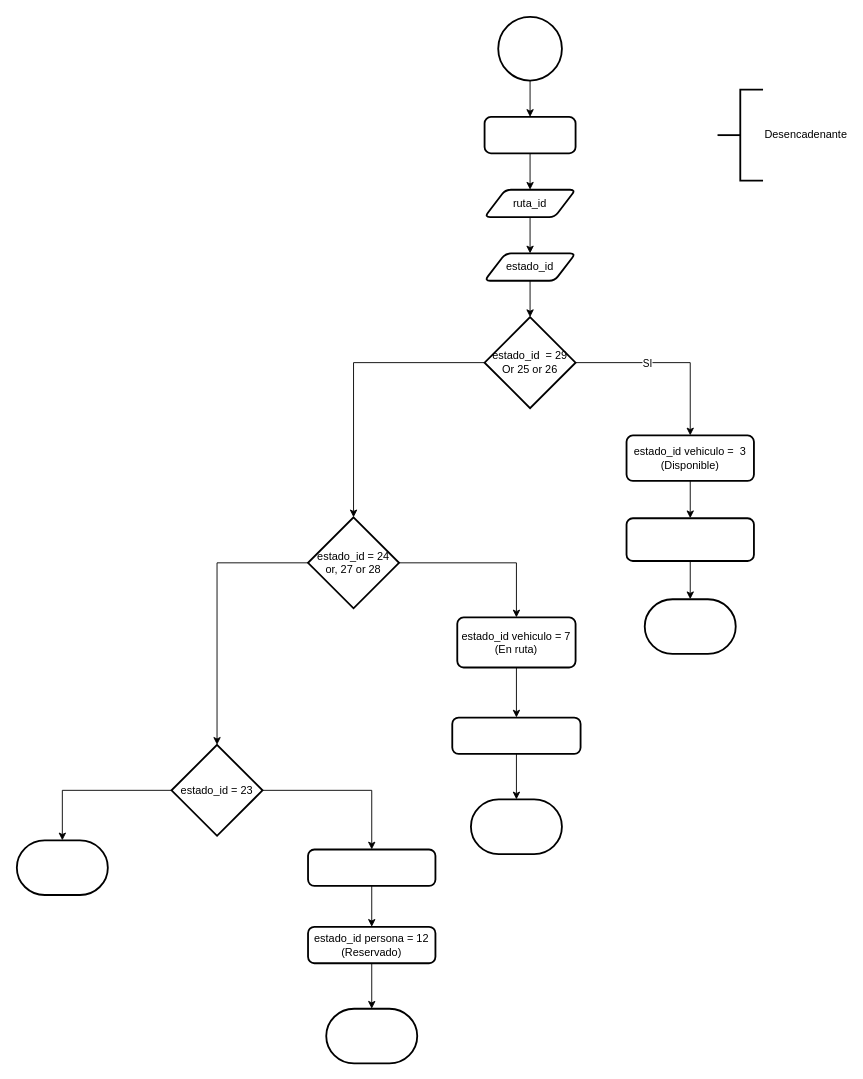
Image size: 863x1079. Some labels were removed from this diagram. Here are the shapes that lost their labels. From the top down, the box of each, then its label:
(483, 116, 576, 154): Se cambio estado de la rutas
(625, 517, 754, 561): estado_id persona = 1 (Activio)
(451, 716, 581, 754): estado_id persona = 7 (En ruta)
(307, 848, 436, 886): estado_id vehiculo = 12 (Reservado)
